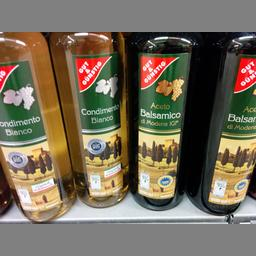vinegar: (49, 33, 130, 207), (0, 32, 74, 222), (185, 32, 255, 213), (132, 31, 196, 210)
